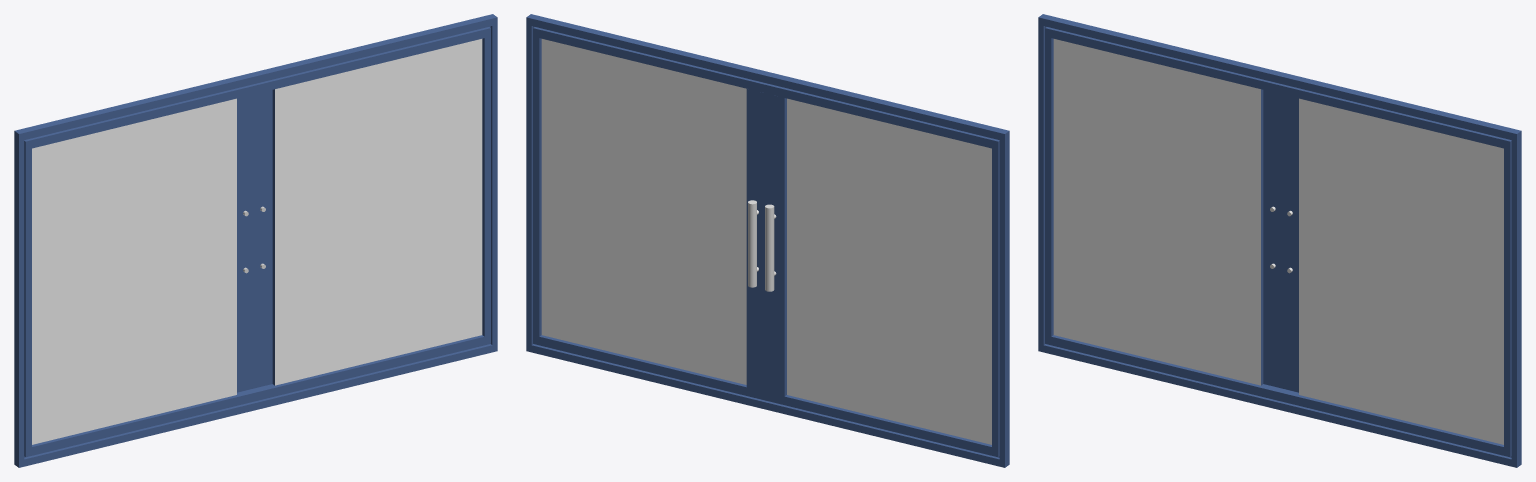
The model's file is Glass Door.fbx.
3 views of the same model, side by side, from view 1: azimuth 30°, elevation 25°; view 2: azimuth 150°, elevation 25°; view 3: azimuth 330°, elevation 25° (orthographic).
Parts seen in each view (by area): view 1: Door; view 2: Door, Handle; view 3: Door.
Boxes of the visible parts, x1=… form: Door: x1=14, y1=14, x2=497, y2=467; Door: x1=526, y1=14, x2=1009, y2=467; Handle: x1=748, y1=200, x2=776, y2=291; Door: x1=1038, y1=14, x2=1521, y2=467.
Size of the model in its own units: 1201 by 801 by 49.9.
